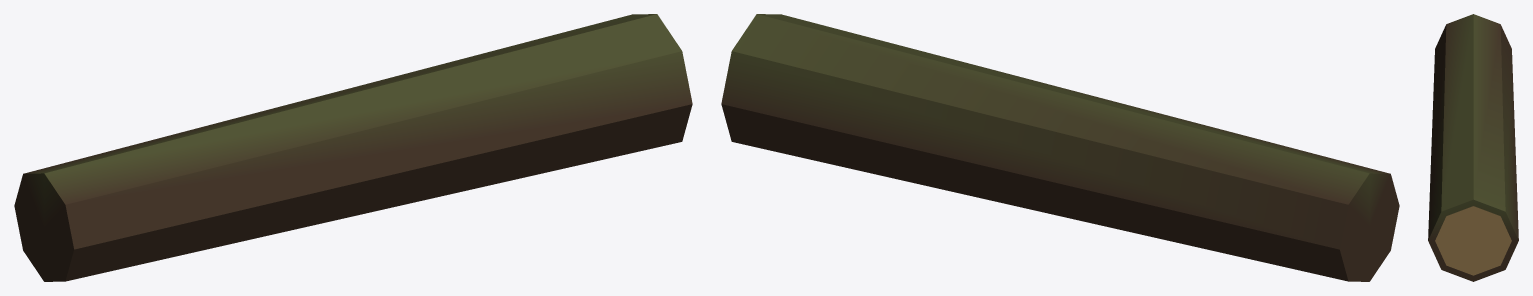
File: log.glb
3 views of the same model, side by side, from view 1: azimuth 30°, elevation 25°; view 2: azimuth 150°, elevation 25°; view 3: azimuth 270°, elevation 25° (orthographic). The views are drawn at different scales.
Visible parts, largest first — view 1: part_0; view 2: part_0; view 3: part_0.
Part boxes in pixels (<box>): part_0: <box>14,14,692,281</box>; part_0: <box>721,14,1399,281</box>; part_0: <box>1428,14,1518,281</box>.
Bounding box in the file's own units: 2.6 × 0.52 × 0.52.
